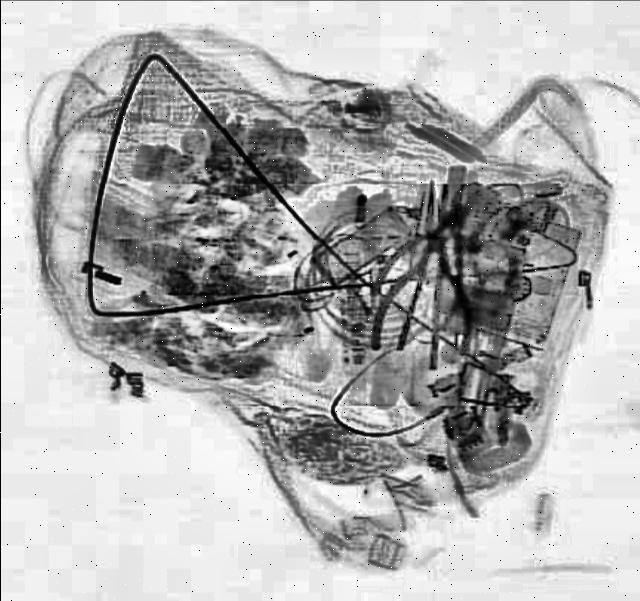Pliers: (362, 172, 514, 334), (370, 175, 490, 356)
